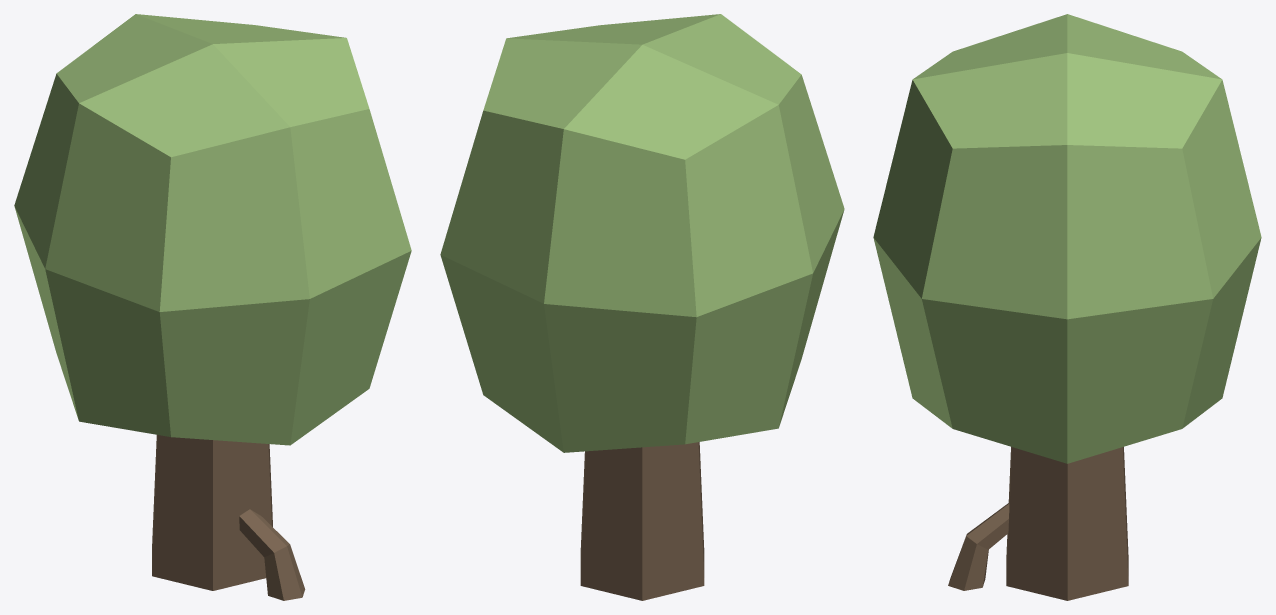
The model's file is Tree 11.fbx.
The picture shows the model from 3 angles, left to right: view 1: azimuth 30°, elevation 25°; view 2: azimuth 150°, elevation 25°; view 3: azimuth 270°, elevation 25°; orthographic projection.
Parts seen in each view (by area): view 1: pCylinder365; view 2: pCylinder365; view 3: pCylinder365.
Part boxes in pixels (x1,y1,x2,y2): pCylinder365: [14, 14, 411, 600]; pCylinder365: [440, 14, 844, 600]; pCylinder365: [873, 14, 1261, 600].
Bounding box in the file's own units: 0.7724 × 1.14 × 0.7724.
